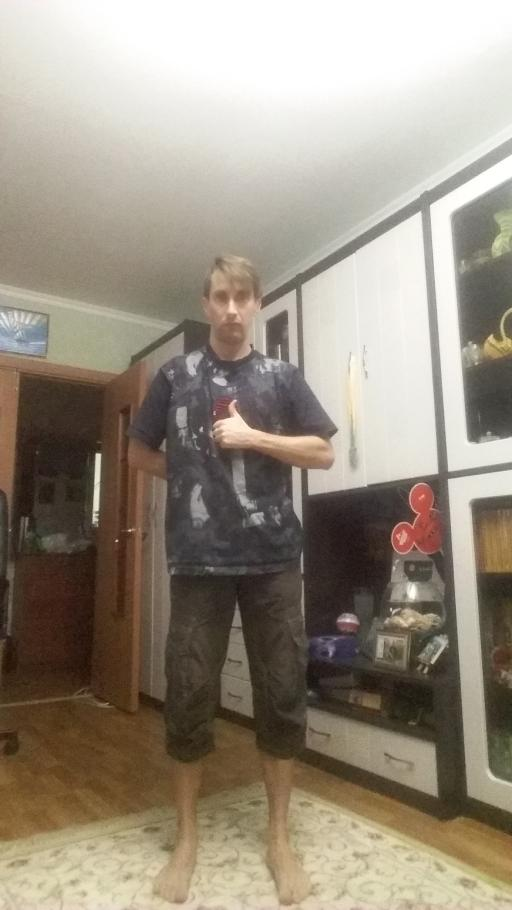like: (208, 397, 254, 454)
